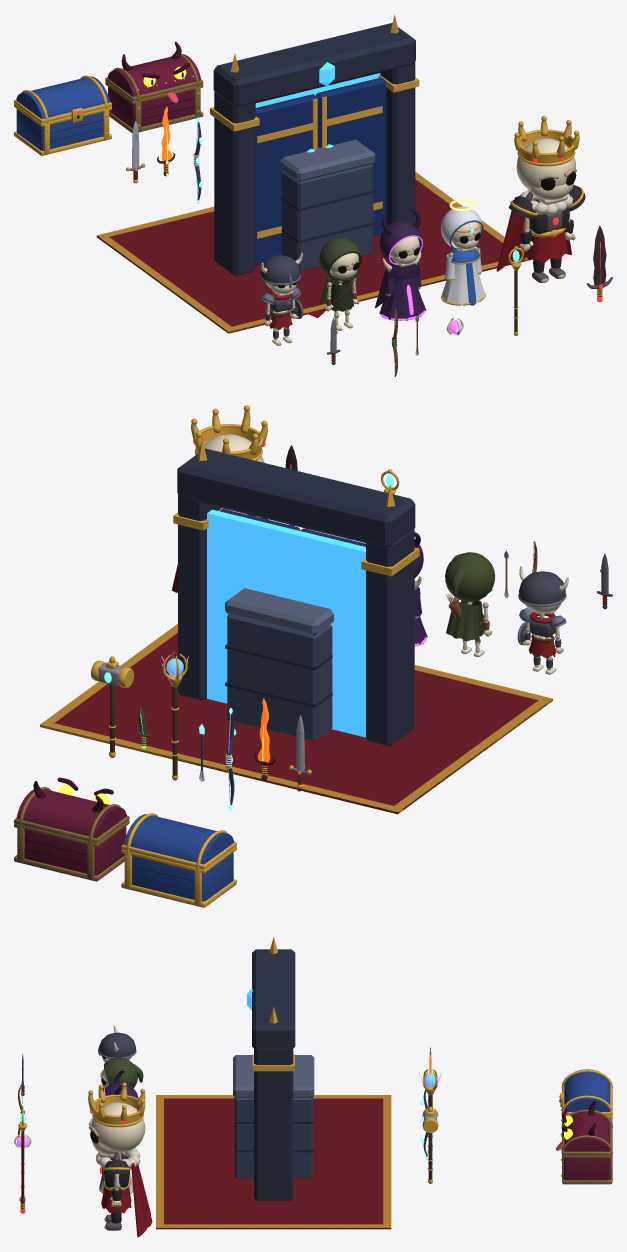
Rendered from assets.glb.
3 views of the same model, one above another, from view 1: azimuth 30°, elevation 25°; view 2: azimuth 150°, elevation 25°; view 3: azimuth 270°, elevation 25° (orthographic). The views are drawn at different scales.
Visible parts, largest first — view 1: T_ExitDoor_Frame, T_Rug_Mesh, T_Wall_Mesh, T_ExitDoor_LeafL, T_ExitDoor_LeafR, SkelKing_Head, T_Chest_Base, T_Mimic_Lid, T_Chest_Lid, T_Mimic_Base, SkelKing_Body, Necro_Body (+12 smaller); view 2: T_ExitDoor_Frame, T_Rug_Mesh, T_Wall_Mesh, T_Mimic_Lid, T_Chest_Base, T_Mimic_Base, T_Chest_Lid, SkelKing_Head, SkelArcher_Head, SkelWarrior_Head, W_HolyHammer_Mesh, W_LightningStaff_Mesh (+3 smaller); view 3: T_Rug_Mesh, T_ExitDoor_Frame, T_Wall_Mesh, SkelKing_Head, T_Mimic_Lid, T_Chest_Lid, T_Mimic_Base, SkelKing_Body, SkelArcher_Head, SkelKing_Cape, SkelWarrior_Head, SkelKing_ArmL (+2 smaller).
Part boxes in pixels (x1,y1,x2,y2): T_ExitDoor_Frame: (210,14,419,275); T_Rug_Mesh: (96,172,531,333); T_Wall_Mesh: (280,139,375,271); T_ExitDoor_LeafL: (255,94,318,264); T_ExitDoor_LeafR: (316,77,386,236); SkelKing_Head: (514,115,579,204); T_Chest_Base: (14,104,111,155); T_Mimic_Lid: (105,41,203,102); T_Chest_Lid: (14,75,111,124); T_Mimic_Base: (105,75,203,133); SkelKing_Body: (520,189,573,262); Necro_Body: (379,263,426,320); T_ExitDoor_Frame: (173,439,419,745); T_Rug_Mesh: (40,624,552,814); T_Wall_Mesh: (225,588,333,740); T_Mimic_Lid: (14,777,129,844); T_Chest_Base: (121,846,236,907); T_Mimic_Base: (14,820,129,881); T_Chest_Lid: (121,813,236,870); SkelKing_Head: (191,405,267,462); SkelArcher_Head: (445,552,494,601); SkelWarrior_Head: (518,566,568,614); W_HolyHammer_Mesh: (90,656,133,757); W_LightningStaff_Mesh: (161,652,188,780); T_Rug_Mesh: (156,1095,391,1229); T_ExitDoor_Frame: (247,937,295,1200); T_Wall_Mesh: (233,1055,314,1177); SkelKing_Head: (88,1082,145,1157); T_Mimic_Lid: (561,1100,612,1155); T_Chest_Lid: (559,1069,612,1115); T_Mimic_Base: (556,1129,612,1184); SkelKing_Body: (96,1148,140,1213); SkelArcher_Head: (100,1057,143,1091); SkelKing_Cape: (131,1162,152,1237); SkelWarrior_Head: (98,1025,136,1062); SkelKing_ArmL: (103,1152,130,1206).
Size of the model in its own units: 4.39 by 3.55 by 7.64.
